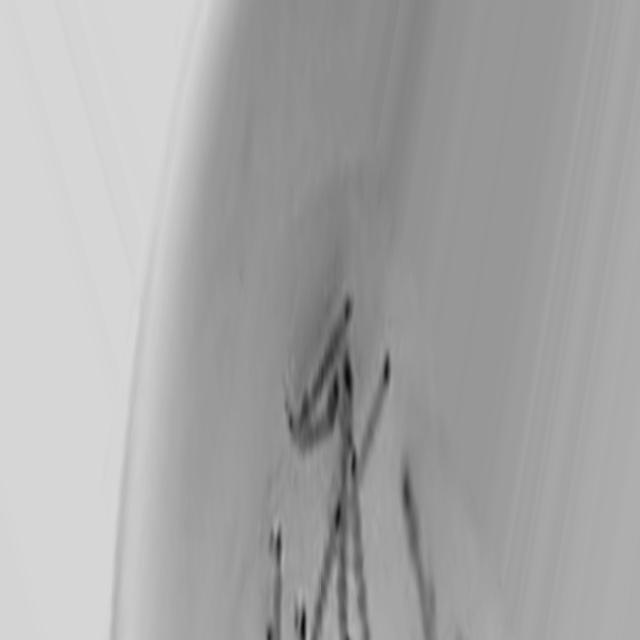larvas: (298, 294, 354, 422), (400, 470, 433, 630), (334, 367, 353, 640), (308, 502, 341, 640), (350, 453, 372, 638), (295, 376, 338, 453), (358, 354, 393, 446), (271, 532, 282, 640)
